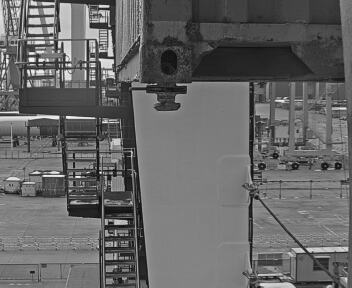twist_lock_1: (140, 76, 193, 119)
